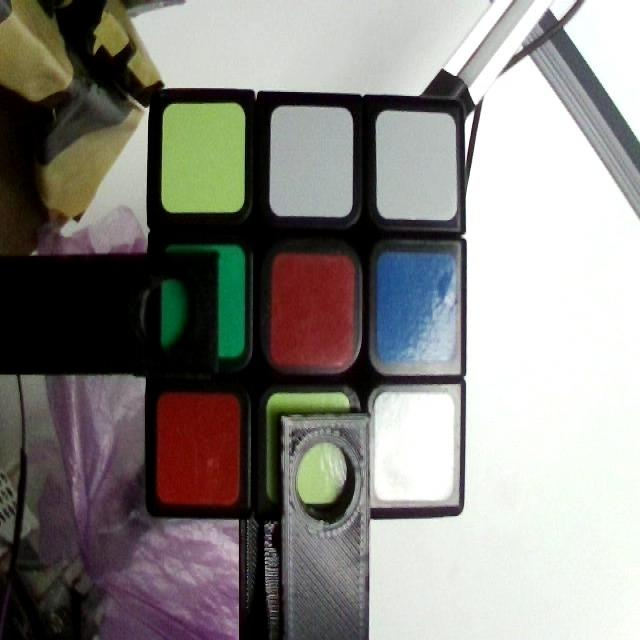b: (379, 254, 456, 360)
g: (165, 248, 243, 354)
r: (274, 257, 356, 361), (158, 395, 239, 500)
w: (269, 102, 353, 214), (375, 108, 456, 222), (374, 393, 458, 501)
y: (265, 393, 353, 510), (163, 106, 243, 212)
